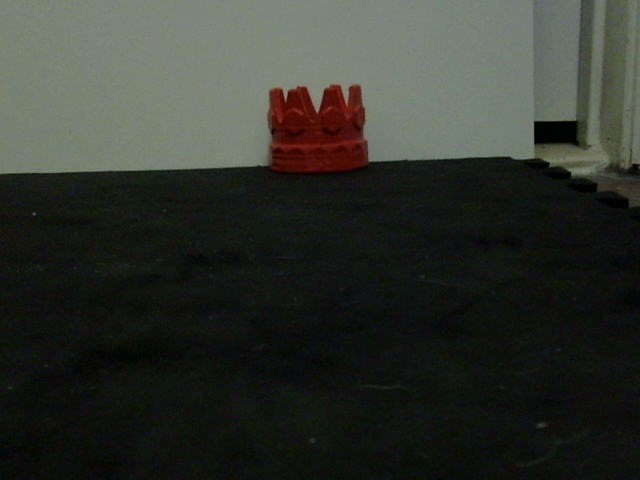crown: (265, 81, 371, 174)
